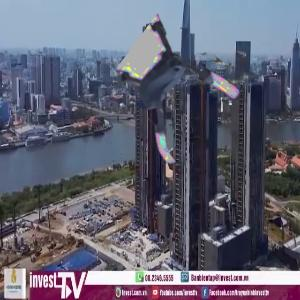drone: (111, 38, 233, 160)
